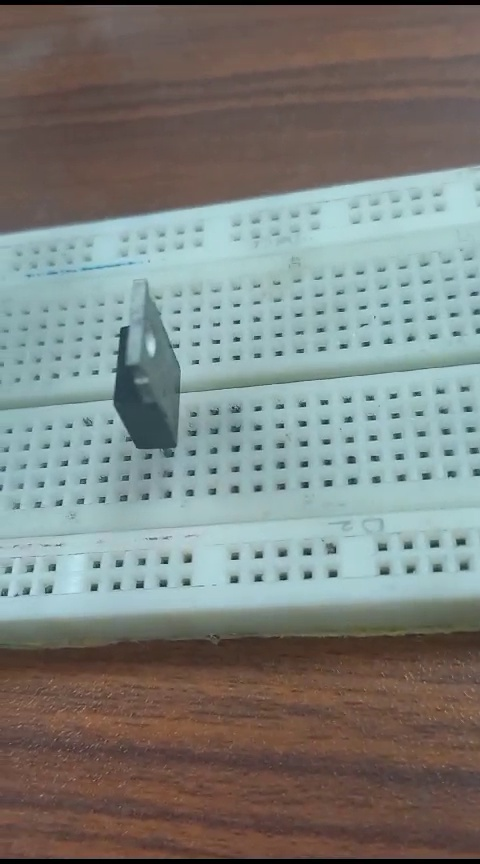voltage regulator: (92, 273, 186, 471)
